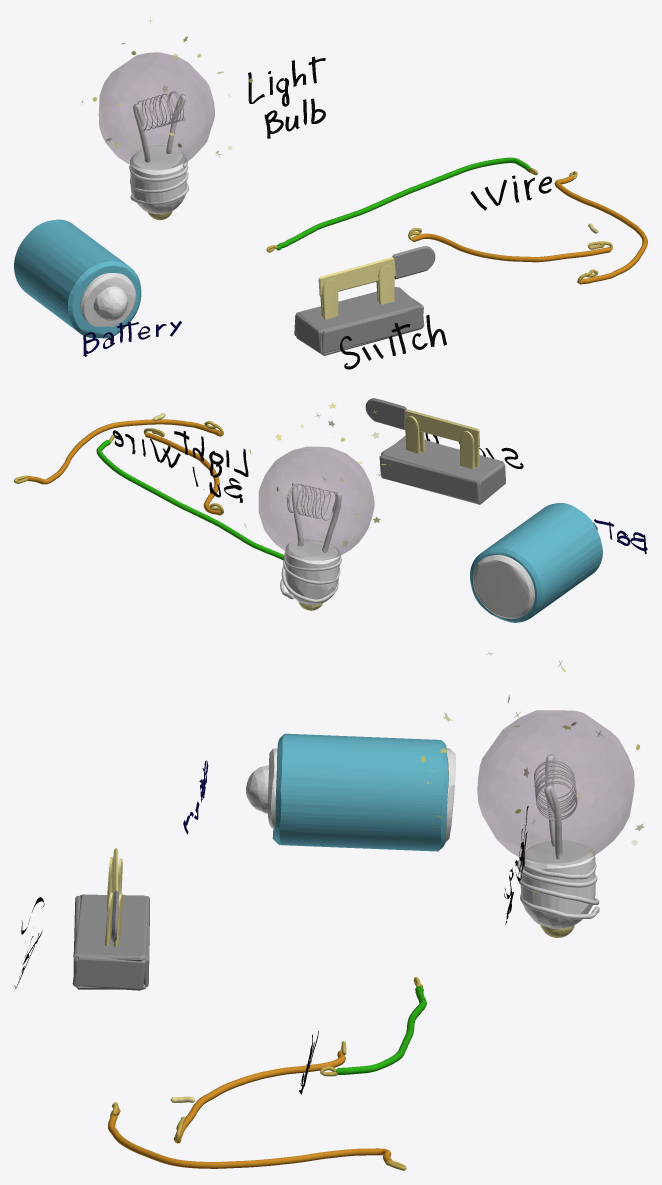
Rendered from broken_circut.glb.
The picture shows the model from 3 angles, top to bottom: view 1: azimuth 30°, elevation 25°; view 2: azimuth 150°, elevation 25°; view 3: azimuth 270°, elevation 25°; orthographic projection. The views are drawn at different scales.
Parts seen in each view (by area): view 1: Object_15, Object_4.001, Object_4, Object_17, Object_19, Object_6.002, Object_6, Object_25, Object_6.001, Object_22, Object_31, Object_28; view 2: Object_15, Object_4.001, Object_4, Object_17, Object_19, Object_6.001, Object_6.002, Object_25, Object_6, Object_28, Object_31; view 3: Object_4.001, Object_15, Object_4, Object_17, Object_19, Object_6.001, Object_6, Object_6.002.
Part boxes in pixels (x1=…): Object_15: x1=98, y1=52, x2=214, y2=170; Object_4.001: x1=14, y1=219, x2=141, y2=338; Object_4: x1=294, y1=246, x2=435, y2=355; Object_17: x1=130, y1=145, x2=186, y2=220; Object_19: x1=129, y1=91, x2=188, y2=204; Object_6.002: x1=266, y1=157, x2=538, y2=252; Object_6: x1=408, y1=223, x2=612, y2=262; Object_25: x1=248, y1=56, x2=325, y2=138; Object_6.001: x1=554, y1=171, x2=647, y2=284; Object_22: x1=340, y1=315, x2=446, y2=369; Object_31: x1=83, y1=321, x2=181, y2=356; Object_28: x1=470, y1=175, x2=551, y2=210; Object_15: x1=258, y1=446, x2=374, y2=560; Object_4.001: x1=470, y1=503, x2=602, y2=622; Object_4: x1=365, y1=398, x2=505, y2=504; Object_17: x1=285, y1=539, x2=340, y2=610; Object_19: x1=280, y1=482, x2=341, y2=602; Object_6.001: x1=14, y1=419, x2=223, y2=484; Object_6.002: x1=96, y1=435, x2=283, y2=559; Object_25: x1=174, y1=431, x2=248, y2=502; Object_6: x1=143, y1=412, x2=223, y2=515; Object_28: x1=112, y1=430, x2=180, y2=468; Object_31: x1=593, y1=519, x2=647, y2=553; Object_4.001: x1=246, y1=733, x2=455, y2=851; Object_15: x1=477, y1=710, x2=634, y2=865; Object_4: x1=72, y1=848, x2=149, y2=990; Object_17: x1=520, y1=840, x2=595, y2=937; Object_19: x1=517, y1=754, x2=599, y2=919; Object_6.001: x1=108, y1=1102, x2=406, y2=1170; Object_6: x1=170, y1=1041, x2=346, y2=1143; Object_6.002: x1=320, y1=977, x2=426, y2=1076.
Size of the model in its own units: 1.21 by 0.4373 by 0.8761.
8 materials, 2 textured.
